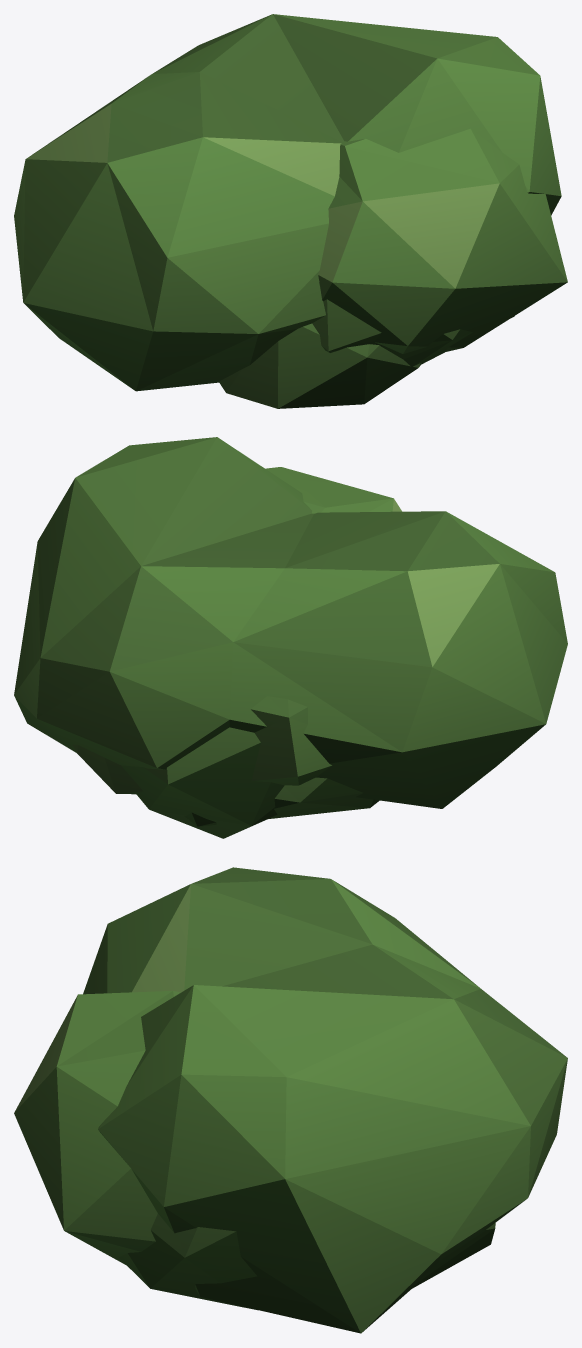
File: bush.fbx
3 renders of one model, top to bottom at view 1: azimuth 30°, elevation 25°; view 2: azimuth 150°, elevation 25°; view 3: azimuth 270°, elevation 25°, orthographic. The views are drawn at different scales.
Visible parts, largest first — view 1: bush_2, bush_0, bush_3, bush_1; view 2: bush_2, bush_1, bush_0, bush_4; view 3: bush_2, bush_0, bush_1.
Boxes of the visible parts, x1,y1,x2,y2 form: bush_2: [14, 14, 561, 391]; bush_0: [318, 128, 567, 353]; bush_3: [219, 323, 422, 408]; bush_1: [312, 281, 514, 367]; bush_2: [14, 437, 567, 808]; bush_1: [121, 727, 284, 838]; bush_0: [69, 467, 401, 794]; bush_4: [184, 777, 379, 826]; bush_2: [83, 867, 567, 1333]; bush_0: [14, 990, 495, 1288]; bush_1: [119, 1214, 257, 1310].
Size of the model in its own units: 1.87 by 1.09 by 1.61.
